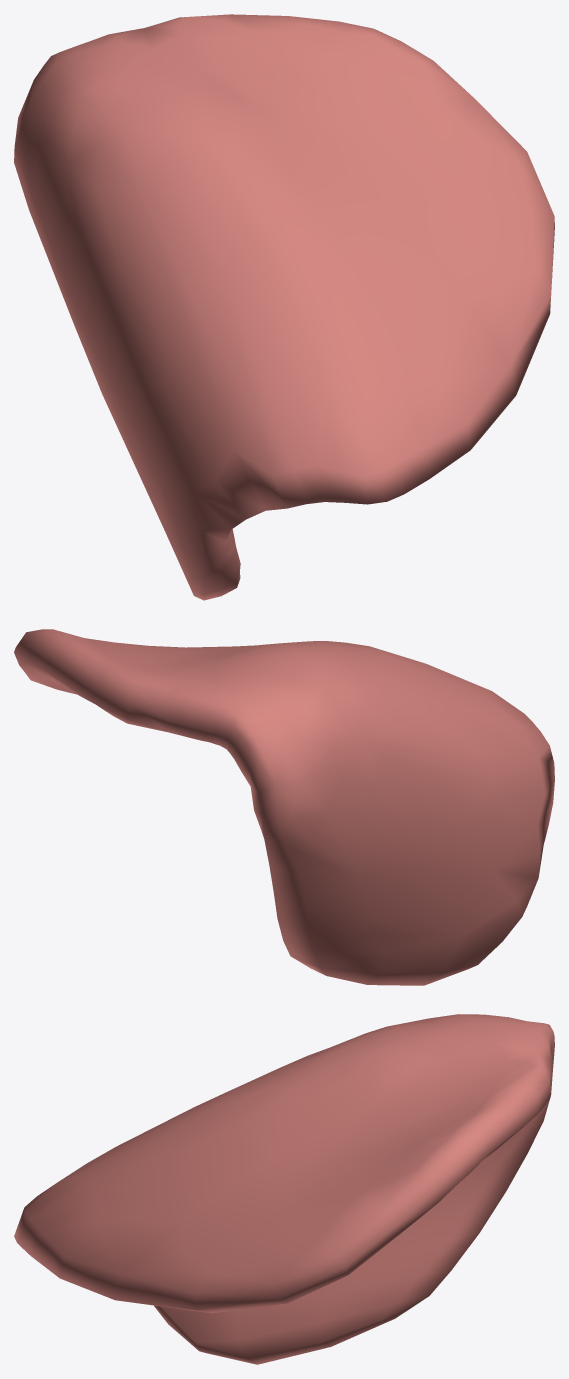
3 renders of one model, top to bottom at view 1: azimuth 30°, elevation 25°; view 2: azimuth 150°, elevation 25°; view 3: azimuth 270°, elevation 25°, orthographic. The views are drawn at different scales.
Visible parts, largest first — view 1: ZA_c4feba24277a8f63; view 2: ZA_c4feba24277a8f63; view 3: ZA_c4feba24277a8f63.
Boxes of the visible parts, x1,y1,x2,y2 form: ZA_c4feba24277a8f63: (14,14,554,600); ZA_c4feba24277a8f63: (14,629,554,985); ZA_c4feba24277a8f63: (14,1014,554,1364).
Size of the model in its own units: 0.00478 by 0.00422 by 0.0058.
